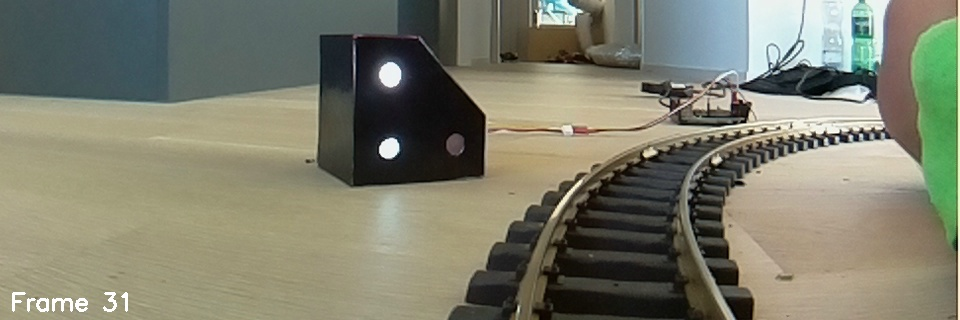Fahrt: (313, 29, 491, 191)
